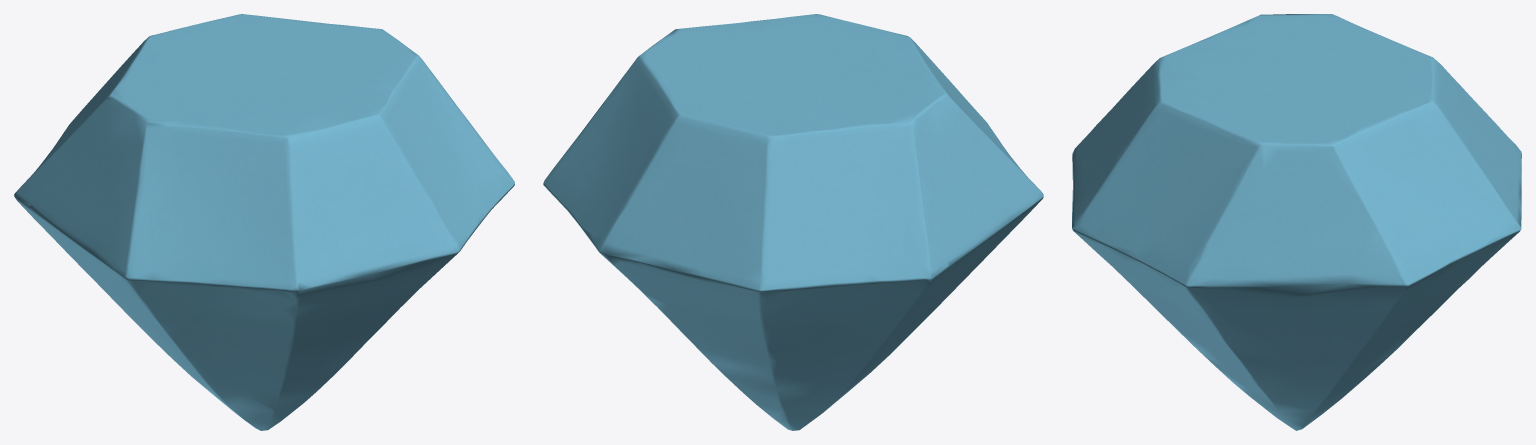
File: tripo_convert_7f713806-268d-4e8f-99dc-a1e18fcbbefe.fbx
3 views of the same model, side by side, from view 1: azimuth 30°, elevation 25°; view 2: azimuth 150°, elevation 25°; view 3: azimuth 270°, elevation 25° (orthographic).
Parts seen in each view (by area): view 1: tripo_node_7f713806; view 2: tripo_node_7f713806; view 3: tripo_node_7f713806.
Boxes of the visible parts, x1=… form: tripo_node_7f713806: x1=14, y1=14, x2=514, y2=430; tripo_node_7f713806: x1=543, y1=14, x2=1043, y2=430; tripo_node_7f713806: x1=1072, y1=14, x2=1521, y2=430.
Bounding box in the file's own units: 0.9688 × 0.8399 × 0.9795.
Materials: 1 (1 with a texture image).
